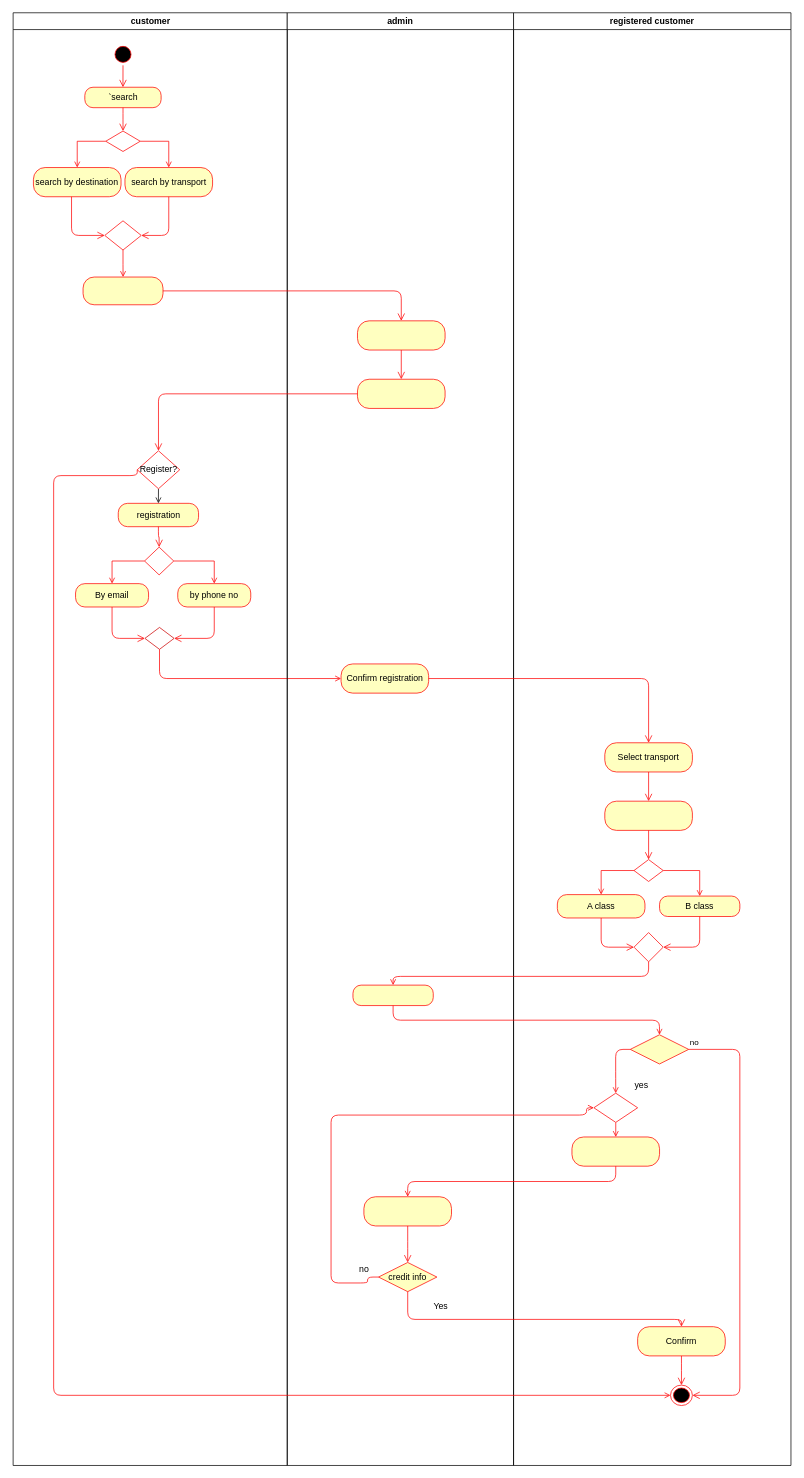
Image size: 804x1478. Some labels were removed from this diagram. The centre of each missing label's shape, as x and y in pixels:
check vacancy: the point at 401,335
credit card info: the point at 615,1151
pay bill?: the point at 659,1049
select preferable time /date: the point at 122,290
select seat type: the point at 648,815
show amount: the point at 392,995
show available transportation: the point at 401,393
verify credit card info: the point at 407,1211
